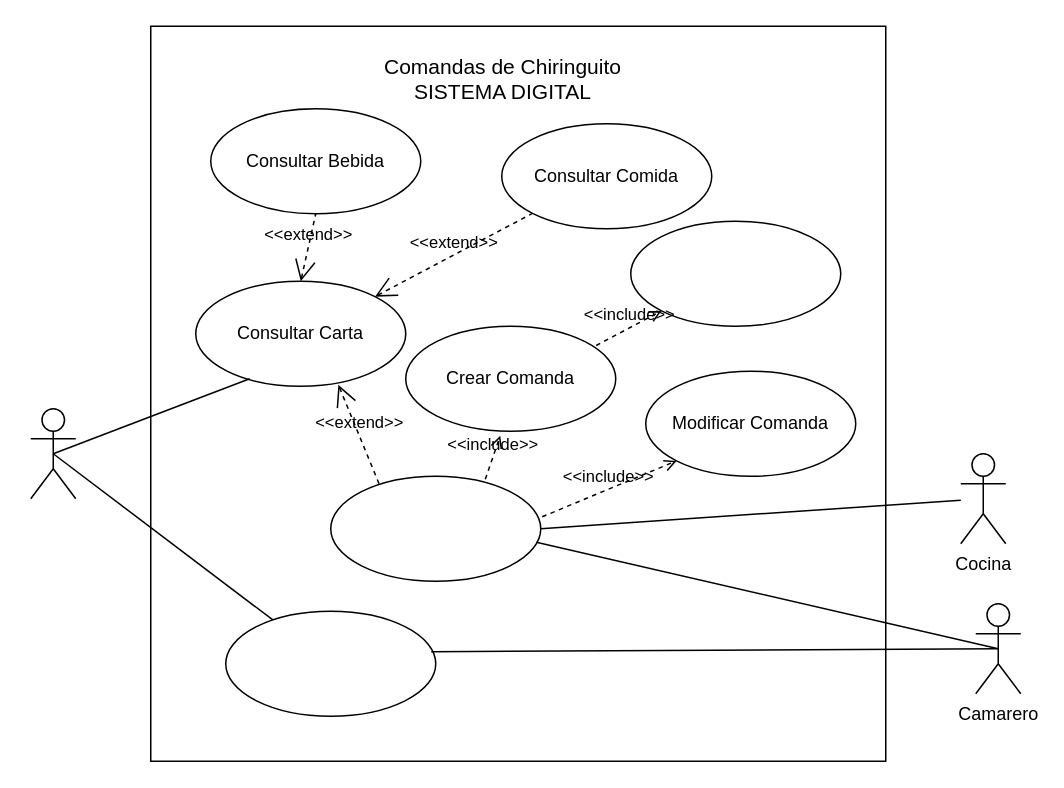
Image size: 1064x788. Some labels were removed from this diagram. The shapes that lost their labels are listed below. From the top down, each one's centre as x and y in pixels, then its label:
At [735,273]: "Asignar Mesa".
At [52,453]: "Cliente".
At [435,528]: "Gestionar Comanda".
At [330,663]: "Cerrar Comanda".
